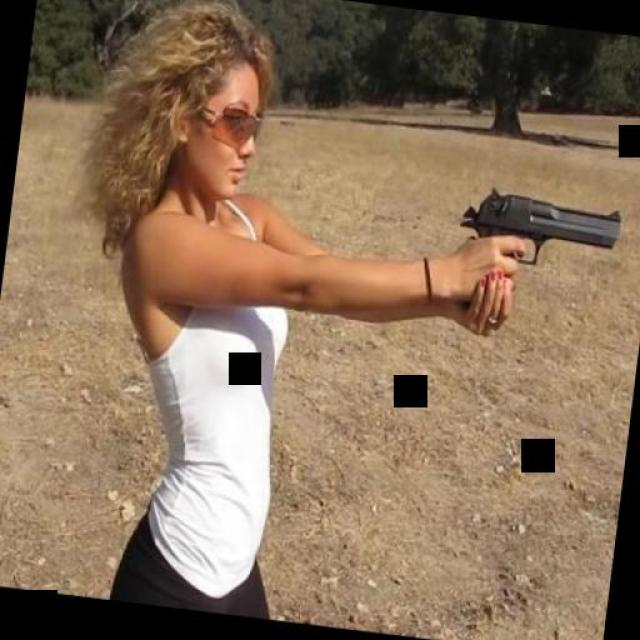gun: (452, 180, 628, 334)
